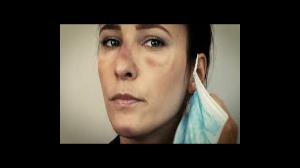without_mask: (99, 25, 170, 139)
